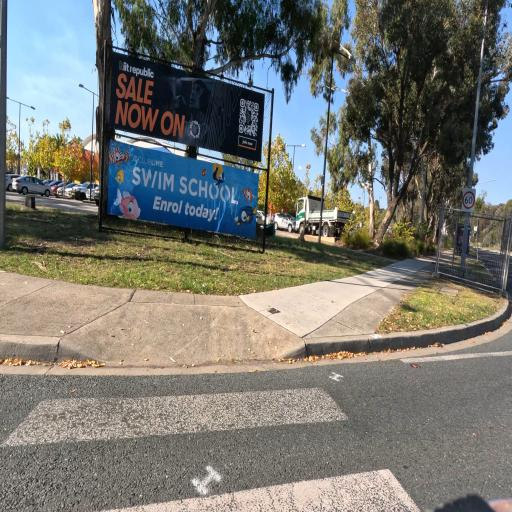kerb_cut: (101, 324, 268, 372)
